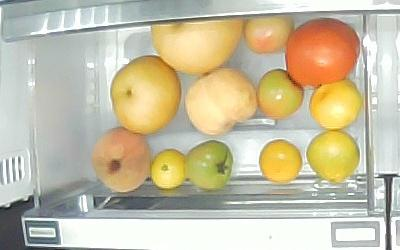peach: (185, 67, 258, 134), (92, 126, 151, 193)
pear: (151, 16, 244, 76), (111, 56, 181, 134)
tangerine: (306, 128, 359, 181), (309, 78, 360, 130), (257, 139, 302, 183), (150, 148, 186, 188)
tomato: (287, 18, 360, 86), (187, 140, 233, 190), (258, 69, 304, 118), (244, 15, 294, 54)
